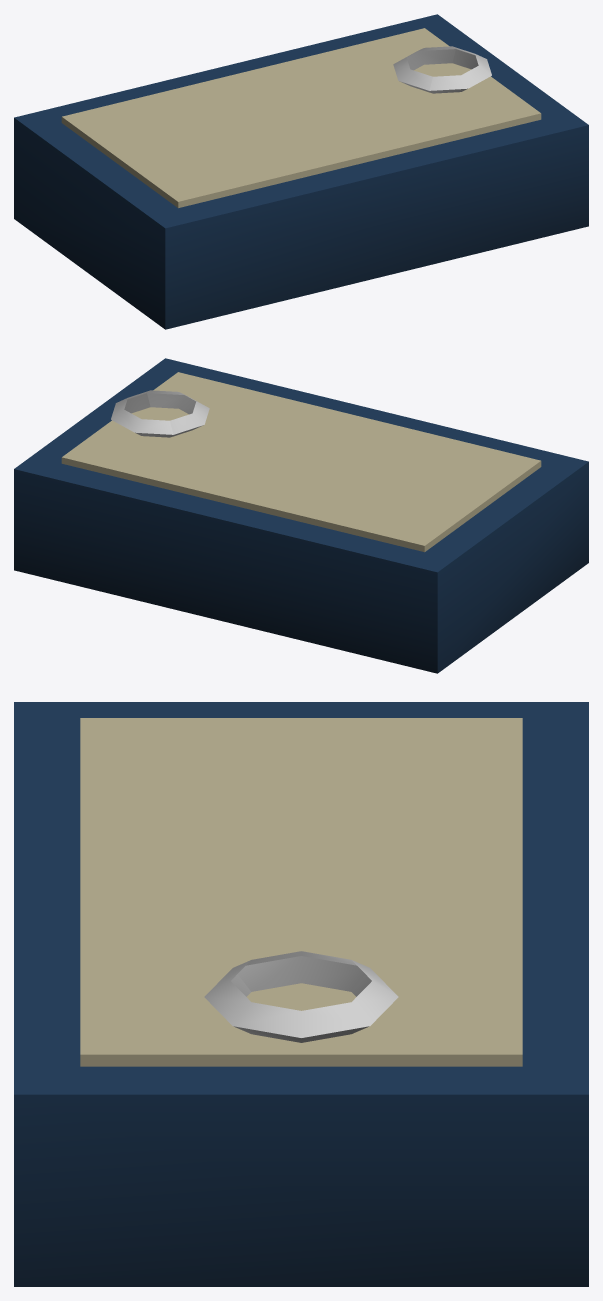
File: conserva_pescado.glb
3 views of the same model, one above another, from view 1: azimuth 30°, elevation 25°; view 2: azimuth 150°, elevation 25°; view 3: azimuth 270°, elevation 25° (orthographic). The views are drawn at different scales.
Parts seen in each view (by area): view 1: conserva_pescado; view 2: conserva_pescado; view 3: conserva_pescado.
Part boxes in pixels (<box>): conserva_pescado: <box>14,14,588,329</box>; conserva_pescado: <box>14,358,588,673</box>; conserva_pescado: <box>14,702,588,1286</box>.
Size of the model in its own units: 0.105 by 0.03 by 0.065.
